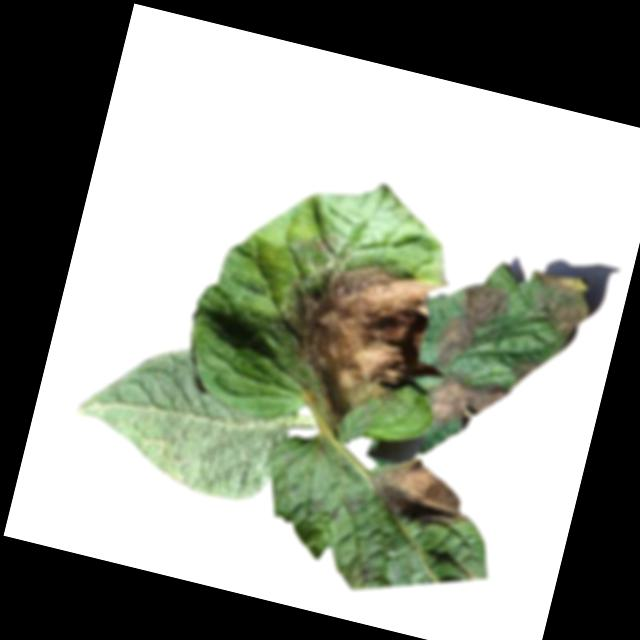Late_blight: (260, 244, 445, 453), (365, 451, 481, 534), (429, 274, 515, 384), (416, 367, 513, 443), (516, 266, 599, 346), (507, 354, 542, 390)
healthy: (62, 323, 307, 511)
